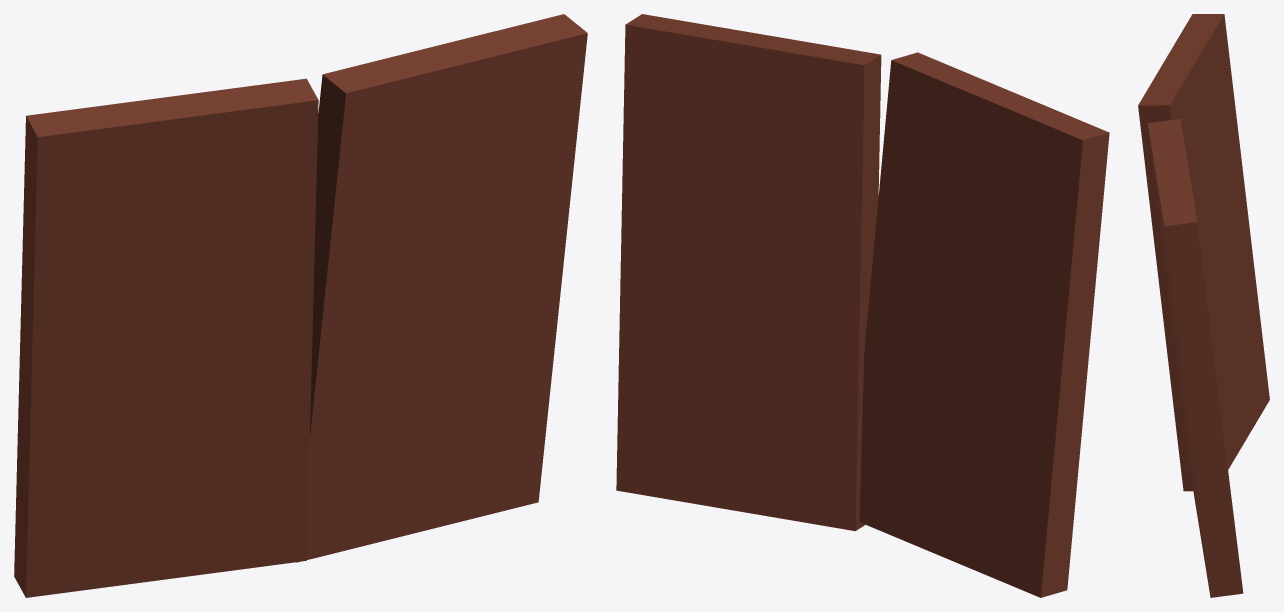
Rendered from lib_brokendoors.fbx.
3 renders of one model, left to right at view 1: azimuth 30°, elevation 25°; view 2: azimuth 150°, elevation 25°; view 3: azimuth 270°, elevation 25°, orthographic. The views are drawn at different scales.
Parts seen in each view (by area): view 1: RightDoor; view 2: RightDoor; view 3: RightDoor.
Boxes of the visible parts, bbox=[...] form: RightDoor: bbox=[14, 14, 587, 597]; RightDoor: bbox=[616, 14, 1109, 597]; RightDoor: bbox=[1138, 14, 1269, 597].
Size of the model in its own units: 751 by 682 by 207.
